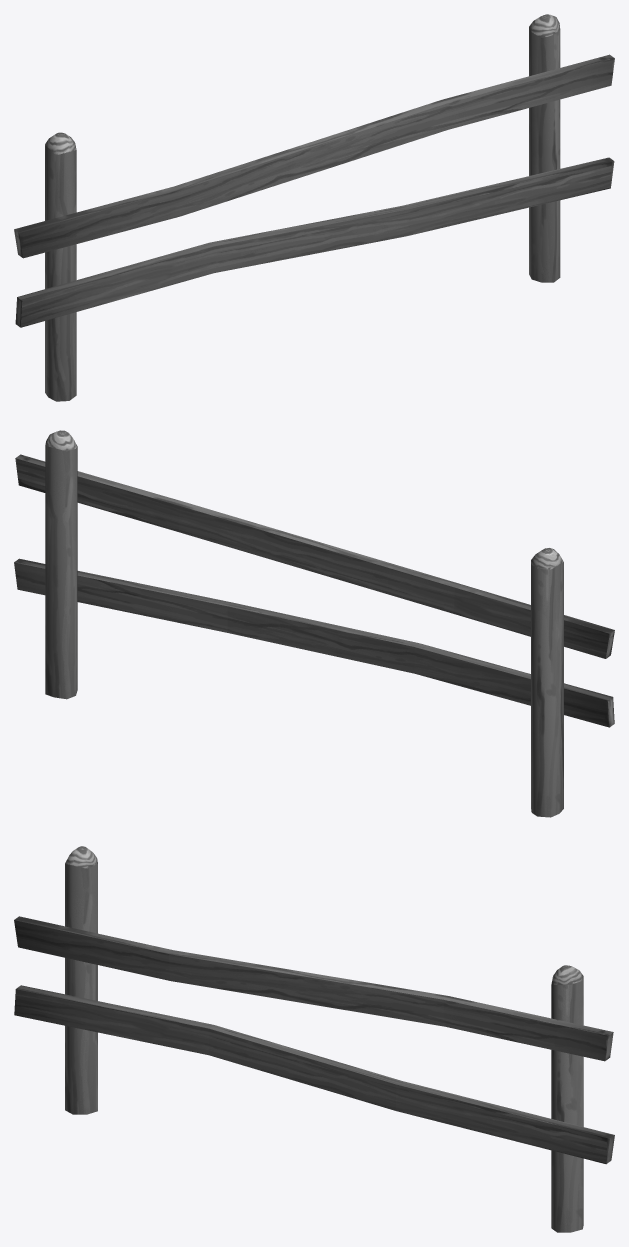
File: Fence01.fbx
3 views of the same model, one above another, from view 1: azimuth 30°, elevation 25°; view 2: azimuth 150°, elevation 25°; view 3: azimuth 330°, elevation 25° (orthographic).
Visible parts, largest first — view 1: Fence01_LOD0; view 2: Fence01_LOD0; view 3: Fence01_LOD0.
Boxes of the visible parts, <box> form: Fence01_LOD0: <box>14,14,614,401</box>; Fence01_LOD0: <box>14,430,614,817</box>; Fence01_LOD0: <box>14,846,614,1232</box>.
Size of what is drawn, in the model's own units: 246 by 103 by 17.45.
